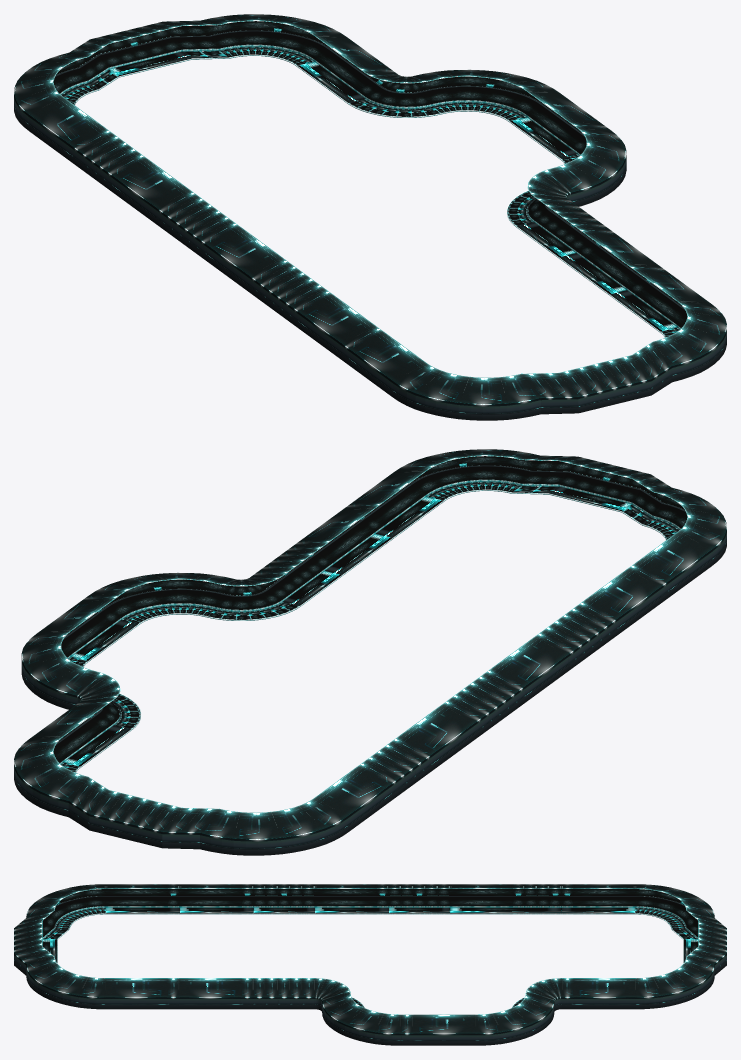
3 views of the same model, one above another, from view 1: azimuth 30°, elevation 25°; view 2: azimuth 150°, elevation 25°; view 3: azimuth 270°, elevation 25° (orthographic). The views are drawn at different scales.
Visible parts, largest first — view 1: translucent_longLeftTurn.006, auditorium_longLeftTurn.003, auditorium_longLeftTurn, translucent_longLeftTurn.002, translucent_longLeftTurn.001, auditorium_longLeftTurn.006, translucent_longLeftTurn.004, translucent1.028, translucent1.018, translucent1.012, translucent1.017, translucent1.019 (+31 smaller); view 2: translucent_longLeftTurn.004, auditorium_longLeftTurn.001, auditorium_longLeftTurn.002, translucent_longLeftTurn, translucent_longLeftTurn.003, auditorium_longLeftTurn.004, translucent_longLeftTurn.006, translucent1.028, translucent1.012, translucent1.018, translucent1.017, translucent1.019 (+31 smaller); view 3: translucent_longLeftTurn.003, translucent_longLeftTurn, translucent_longLeftTurn.001, translucent_longLeftTurn.002, translucent1.004, translucent1.005, translucent1.006, translucent1.011, auditorium1.028, auditorium1.019, auditorium1.012, auditorium1.017 (+32 smaller).
Part boxes in pixels (x1,y1,x2,y2): translucent_longLeftTurn.006: [393, 363, 540, 406]; auditorium_longLeftTurn.003: [203, 20, 331, 60]; auditorium_longLeftTurn: [417, 76, 544, 116]; translucent_longLeftTurn.002: [552, 128, 626, 194]; translucent_longLeftTurn.001: [653, 301, 726, 367]; auditorium_longLeftTurn.006: [393, 374, 540, 420]; translucent_longLeftTurn.004: [14, 52, 98, 116]; translucent1.028: [113, 159, 189, 209]; translucent1.018: [350, 332, 426, 382]; translucent1.012: [29, 97, 104, 147]; translucent1.017: [299, 295, 375, 345]; translucent1.019: [207, 227, 282, 277]; translucent_longLeftTurn.004: [200, 798, 347, 841]; auditorium_longLeftTurn.001: [409, 455, 537, 495]; auditorium_longLeftTurn.002: [104, 579, 230, 619]; translucent_longLeftTurn: [21, 631, 95, 697]; translucent_longLeftTurn.003: [14, 736, 87, 802]; auditorium_longLeftTurn.004: [200, 808, 347, 855]; translucent_longLeftTurn.006: [642, 487, 726, 551]; translucent1.028: [399, 705, 475, 755]; translucent1.012: [314, 767, 390, 817]; translucent1.018: [636, 532, 711, 582]; translucent1.017: [585, 569, 660, 619]; translucent1.019: [492, 637, 567, 687]; translucent_longLeftTurn.003: [635, 957, 714, 998]; translucent_longLeftTurn: [475, 993, 554, 1035]; translucent_longLeftTurn.001: [26, 957, 105, 998]; translucent_longLeftTurn.002: [322, 993, 400, 1035]; translucent1.004: [413, 1014, 475, 1035]; translucent1.005: [105, 978, 167, 998]; translucent1.006: [179, 978, 241, 998]; translucent1.011: [573, 978, 635, 998]; auditorium1.028: [449, 888, 512, 907]; auditorium1.019: [314, 888, 376, 907]; auditorium1.012: [573, 888, 635, 907]; auditorium1.017: [179, 888, 241, 907].
Bounding box in the file's own units: 91.17 × 5.46 × 183.
1 material, 1 textured.
